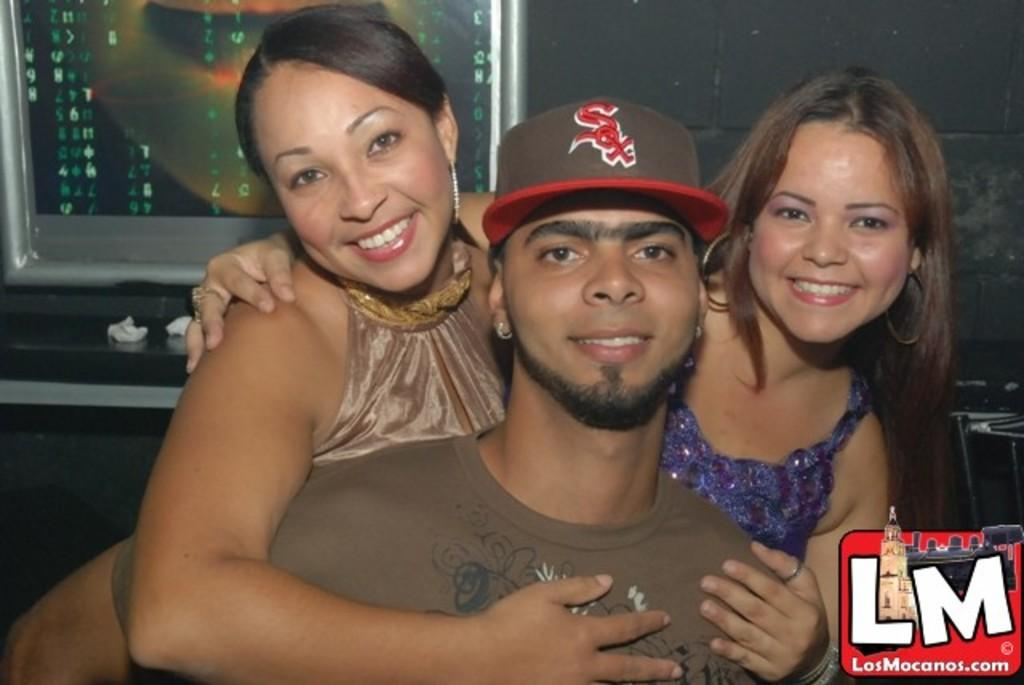Hat: (480, 98, 730, 250)
